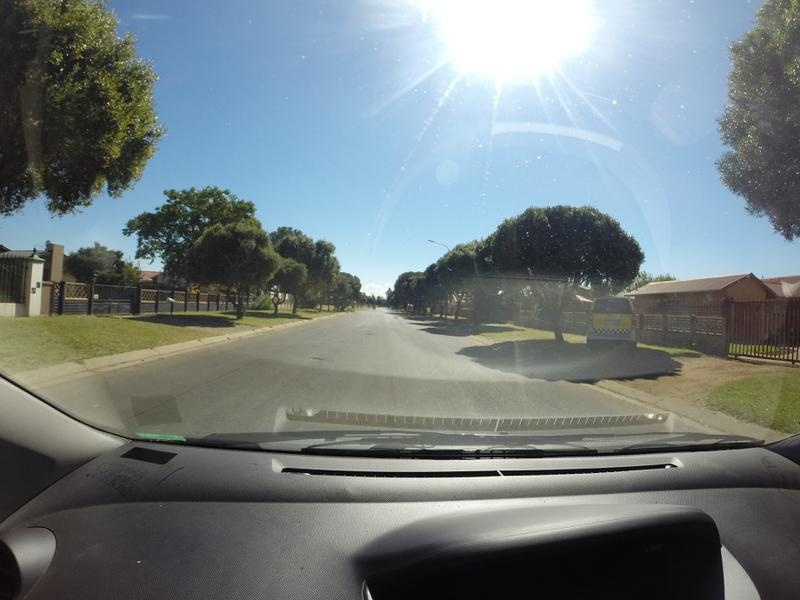pothole: (310, 349, 321, 366)
